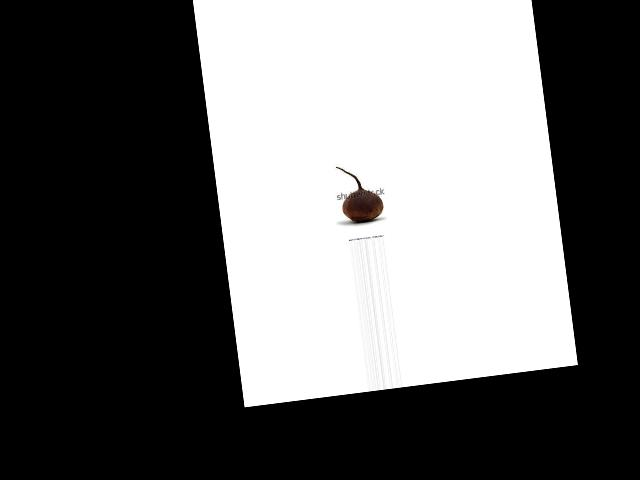beet: (336, 161, 385, 224)
